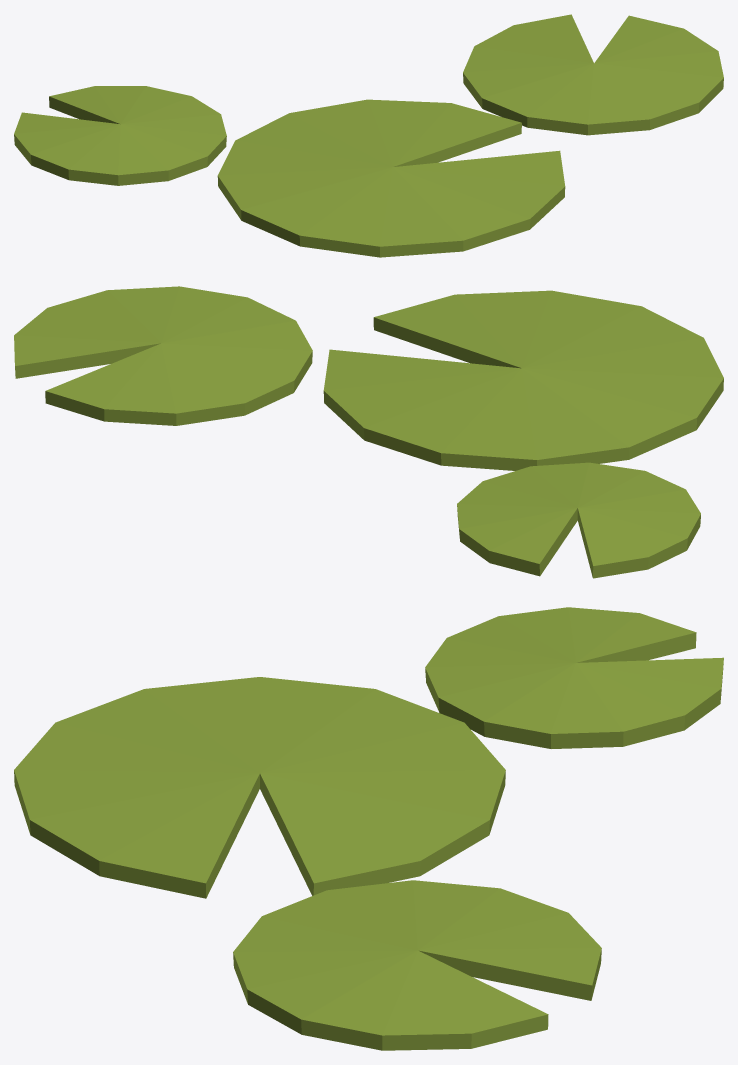
File: lily-chunky.glb
The picture shows the model from 3 angles, top to bottom: view 1: azimuth 30°, elevation 25°; view 2: azimuth 150°, elevation 25°; view 3: azimuth 270°, elevation 25°; orthographic projection. The views are drawn at different scales.
Visible parts, largest first — view 1: lily-chunky; view 2: lily-chunky; view 3: lily-chunky.
Boxes of the visible parts, x1,y1,x2,y2 form: lily-chunky: (14, 14, 723, 257); lily-chunky: (14, 286, 723, 578); lily-chunky: (14, 607, 723, 1050).
Size of the model in its own units: 1.47 by 0.038 by 1.03.
